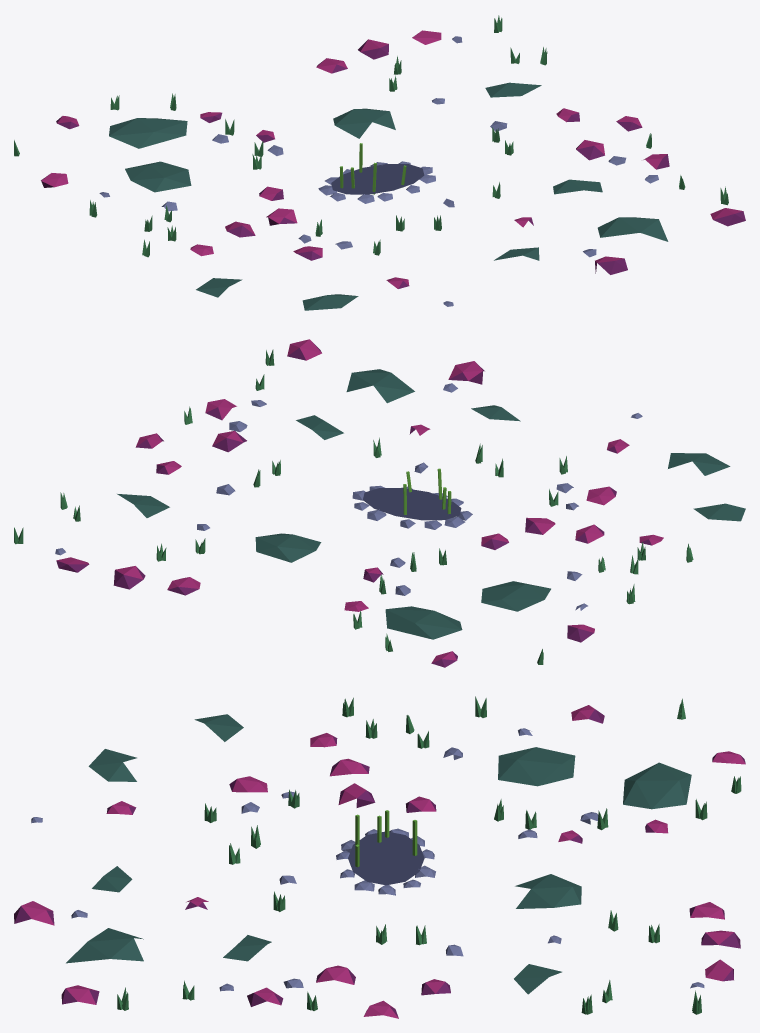
Rendered from decor2.glb.
3 renders of one model, top to bottom at view 1: azimuth 30°, elevation 25°; view 2: azimuth 150°, elevation 25°; view 3: azimuth 270°, elevation 25°, orthographic. The views are drawn at different scales.
Visible parts, largest first — view 1: Pool; view 2: Pool; view 3: Pool.
Part boxes in pixels (left/top/right/bottom): Pool: left=14, top=15, right=745, bottom=310; Pool: left=14, top=339, right=745, bottom=667; Pool: left=14, top=696, right=745, bottom=1018.
Size of the model in its own units: 11.43 by 0.8083 by 11.46.
